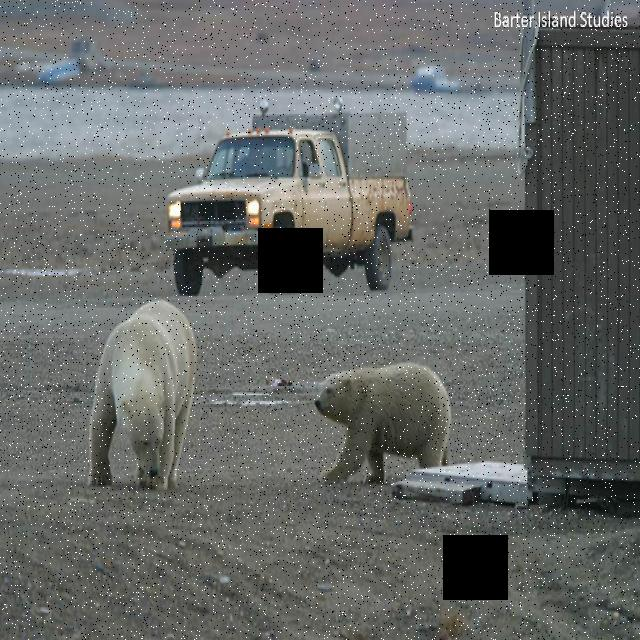Bear: (90, 291, 200, 497), (304, 356, 453, 486)
